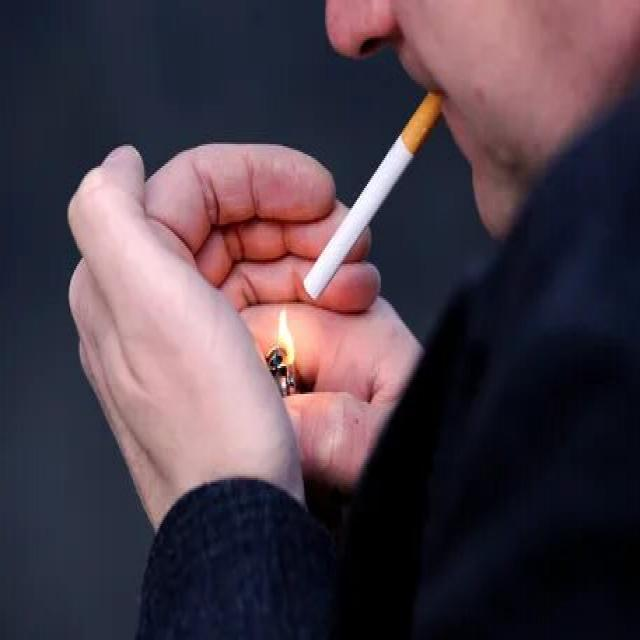cigarette: (300, 90, 445, 302)
